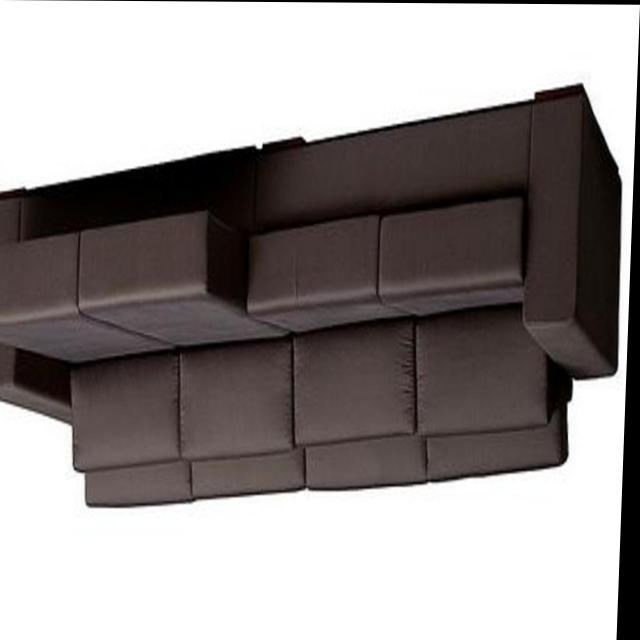Sofa: (0, 82, 625, 512)
